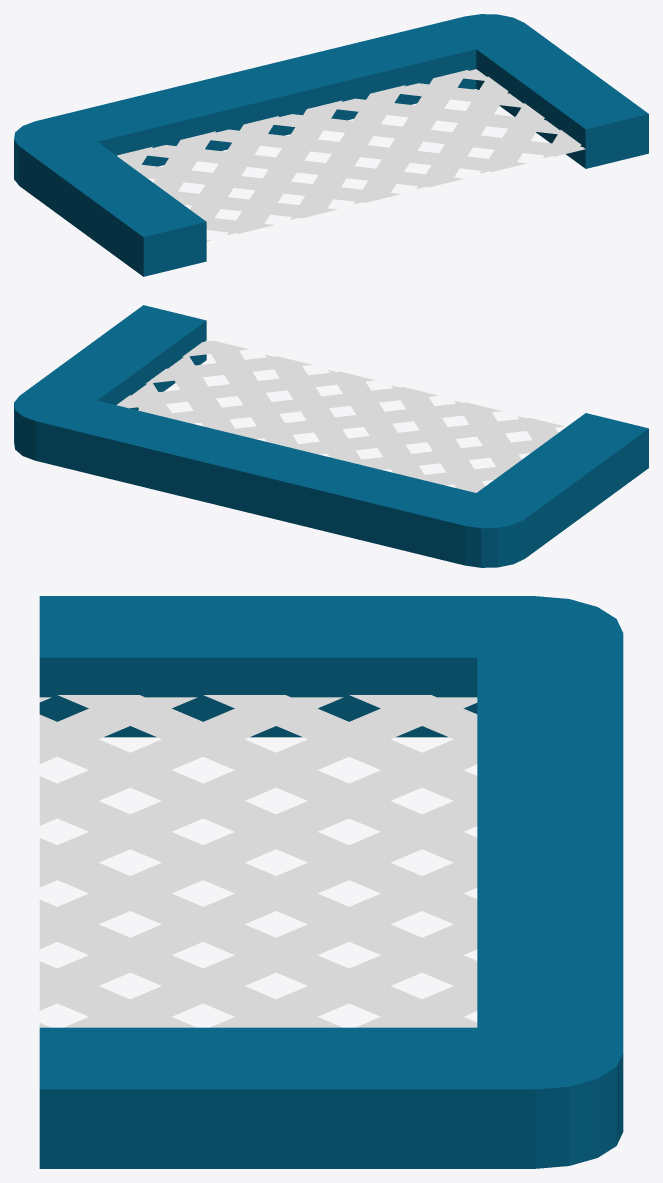
Rendered from G02_028_Floor_Mesh_D.fbx.
3 renders of one model, top to bottom at view 1: azimuth 30°, elevation 25°; view 2: azimuth 150°, elevation 25°; view 3: azimuth 270°, elevation 25°, orthographic. The views are drawn at different scales.
Visible parts, largest first — view 1: 010_Mesh_D_B, 平面.046; view 2: 010_Mesh_D_B, 平面.046; view 3: 010_Mesh_D_B, 平面.046.
Part boxes in pixels (x1,y1,x2,y2): 010_Mesh_D_B: [14, 14, 648, 276]; 平面.046: [117, 69, 585, 241]; 010_Mesh_D_B: [14, 305, 648, 567]; 平面.046: [116, 340, 564, 492]; 010_Mesh_D_B: [39, 596, 623, 1168]; 平面.046: [39, 695, 477, 1027].
Bounding box in the file's own units: 400 × 30 × 200.
